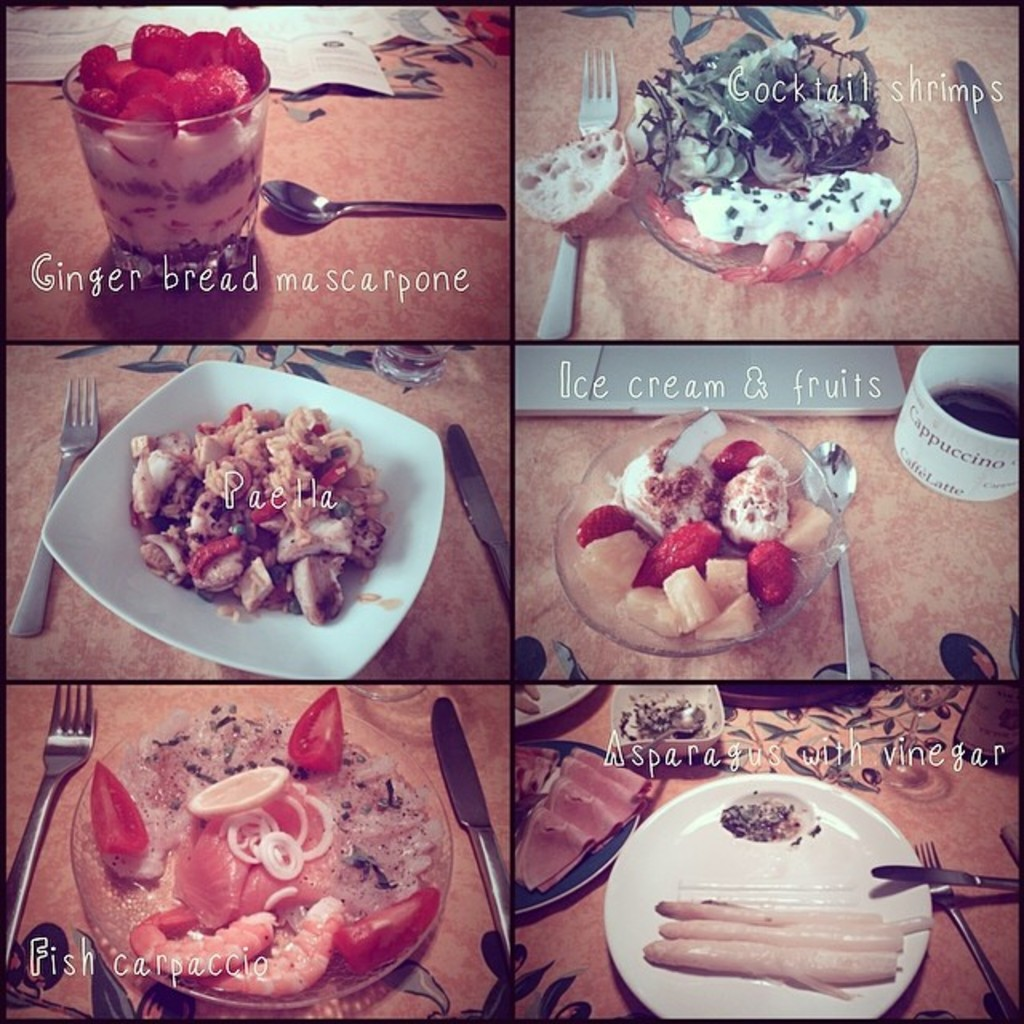plate: (603, 788, 967, 1004)
